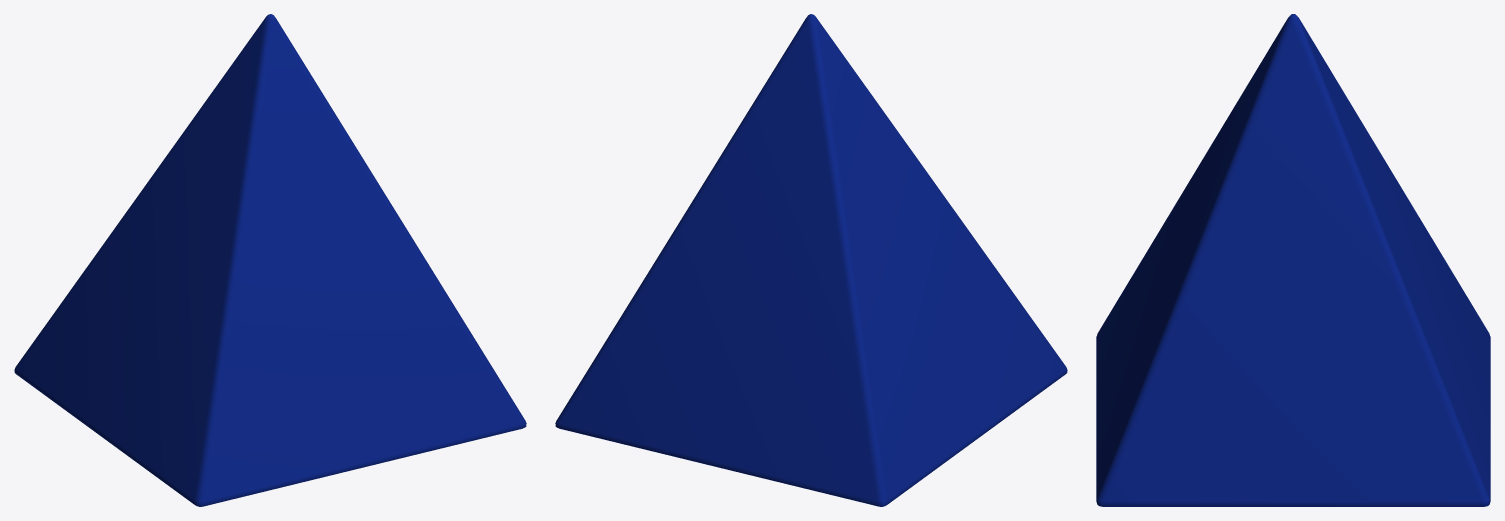
The model's file is Prop_Triangle.fbx.
3 views of the same model, side by side, from view 1: azimuth 30°, elevation 25°; view 2: azimuth 150°, elevation 25°; view 3: azimuth 270°, elevation 25° (orthographic). The views are drawn at different scales.
Visible parts, largest first — view 1: Prop_Triangle; view 2: Prop_Triangle; view 3: Prop_Triangle.
Boxes of the visible parts, x1,y1,x2,y2 form: Prop_Triangle: (14,14,526,506); Prop_Triangle: (555,14,1067,506); Prop_Triangle: (1096,14,1490,506).
Size of the model in its own units: 2.05 by 2.29 by 2.
